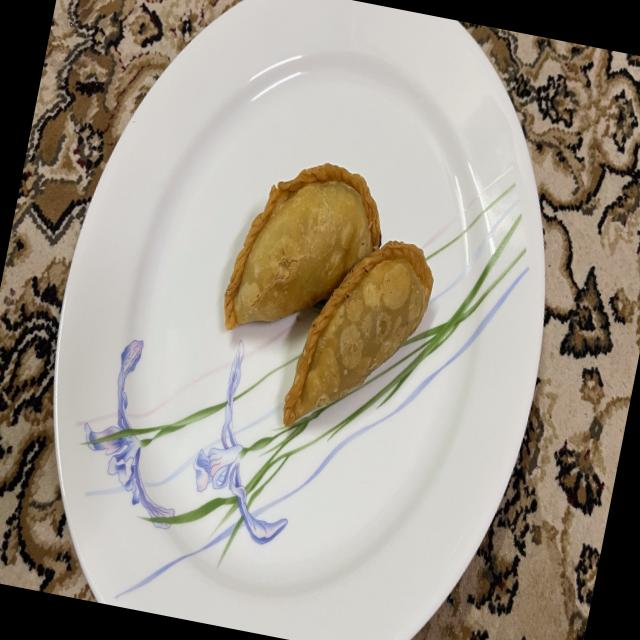karipap: (283, 241, 433, 425), (224, 163, 381, 330)
